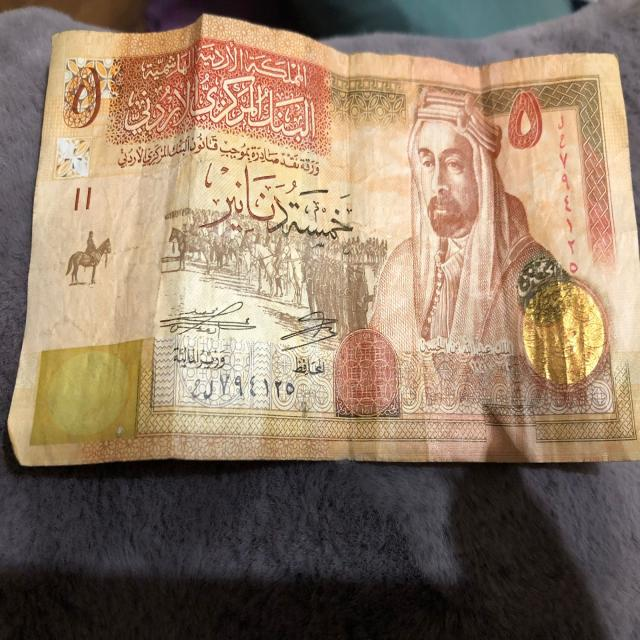5-dinar: (9, 28, 640, 468)
